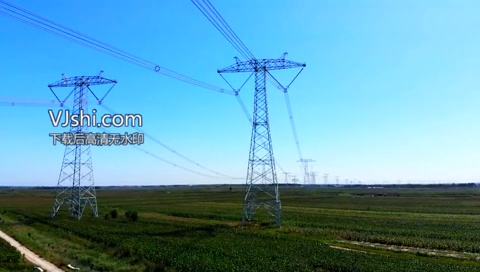tower_body: (210, 47, 310, 231)
tower_foot: (241, 184, 284, 226)
tower_head: (213, 52, 306, 74)
